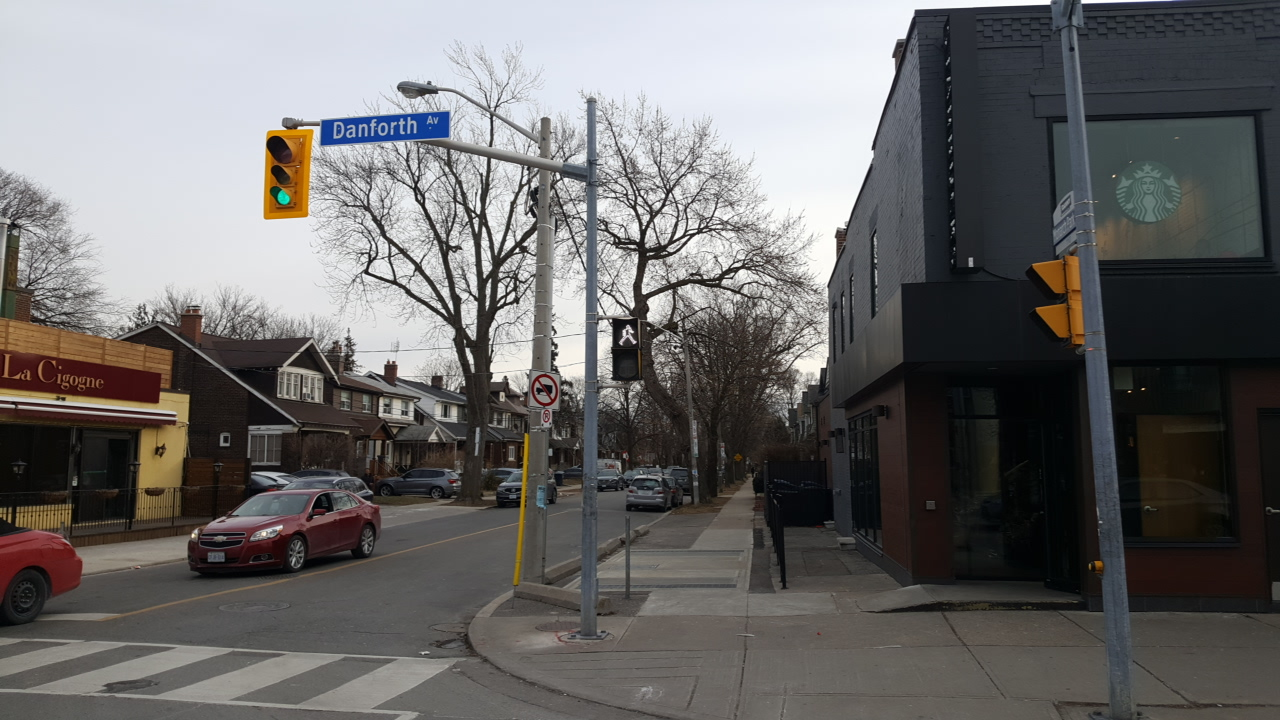light: (607, 317, 650, 388)
